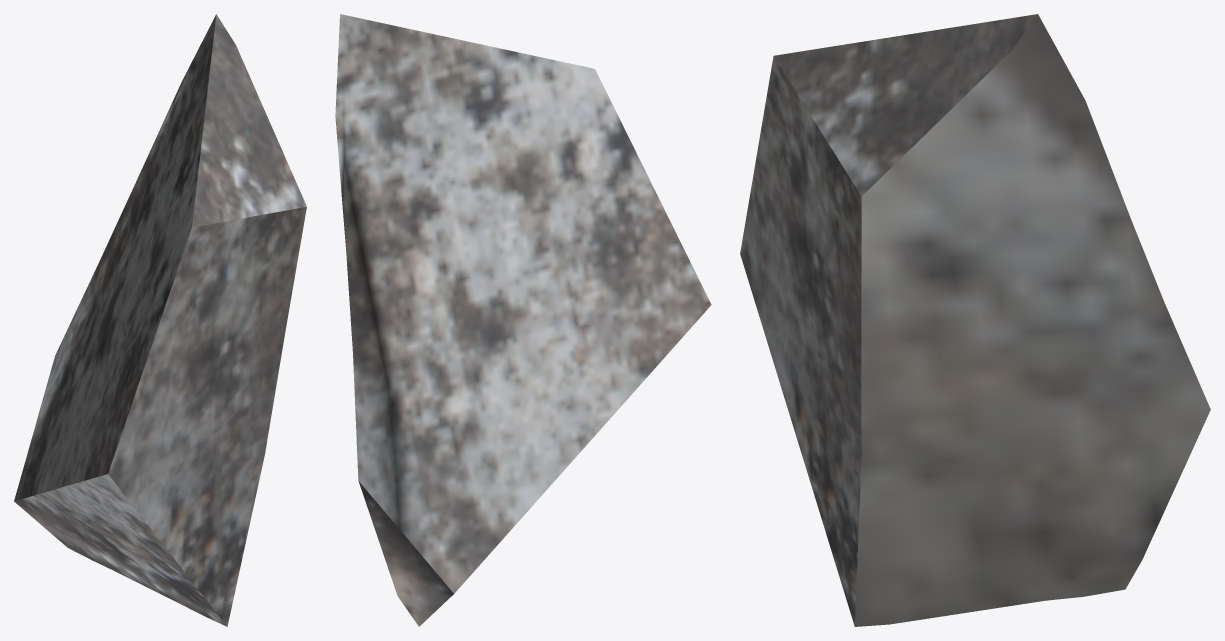
The model's file is Asteroid_Large_001_02_008_03_035.fbx.
3 renders of one model, left to right at view 1: azimuth 30°, elevation 25°; view 2: azimuth 150°, elevation 25°; view 3: azimuth 270°, elevation 25°, orthographic. The views are drawn at different scales.
Visible parts, largest first — view 1: Asteroid_Large_001_02_008_03_035; view 2: Asteroid_Large_001_02_008_03_035; view 3: Asteroid_Large_001_02_008_03_035.
Boxes of the visible parts, x1,y1,x2,y2 form: Asteroid_Large_001_02_008_03_035: [14, 14, 306, 626]; Asteroid_Large_001_02_008_03_035: [335, 14, 711, 626]; Asteroid_Large_001_02_008_03_035: [740, 14, 1210, 626].
Bounding box in the file's own units: 2.57 × 5.34 × 3.5.
